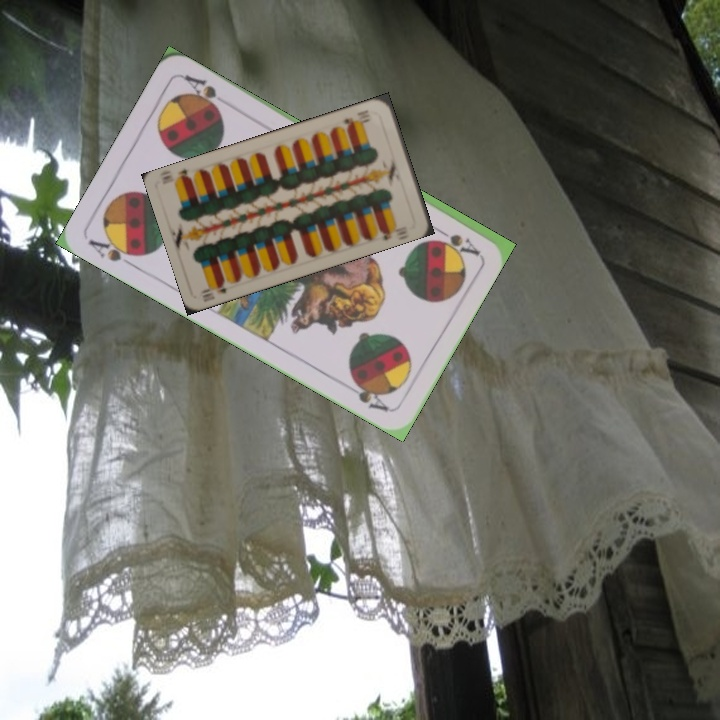E10: (197, 277, 229, 304), (339, 106, 372, 130)
SA: (84, 232, 144, 271), (427, 221, 482, 259)
